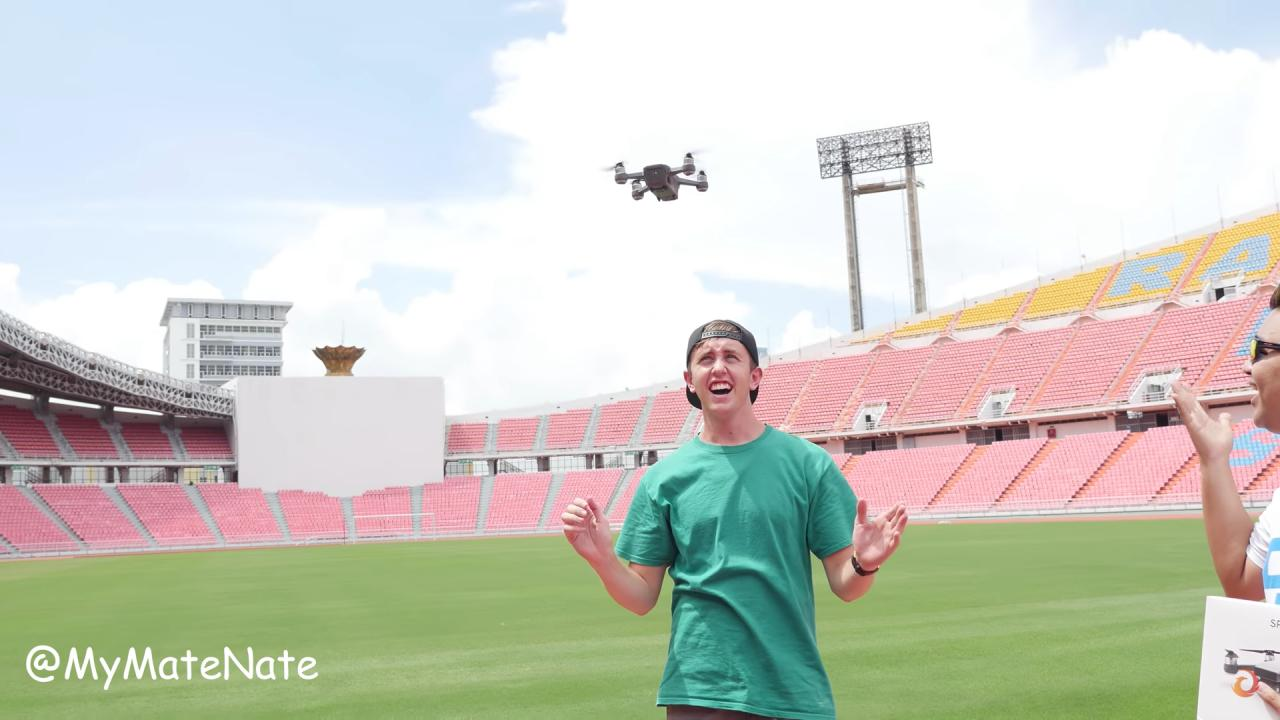Drone: (587, 132, 736, 222)
